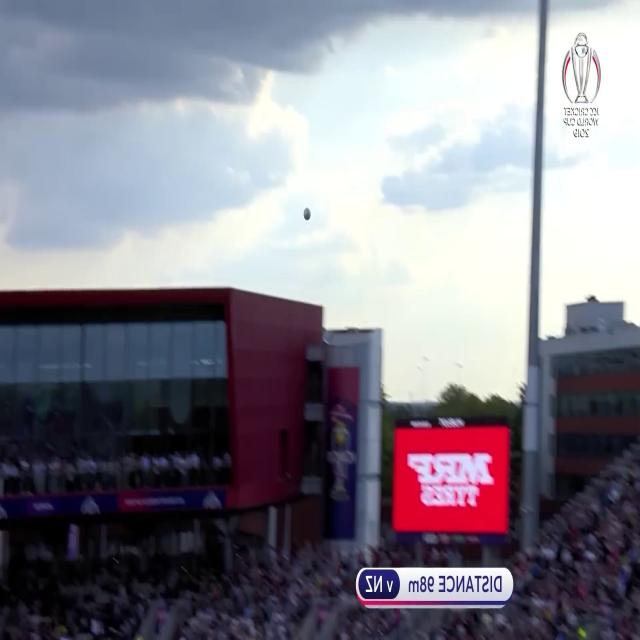ball: (302, 202, 312, 222)
